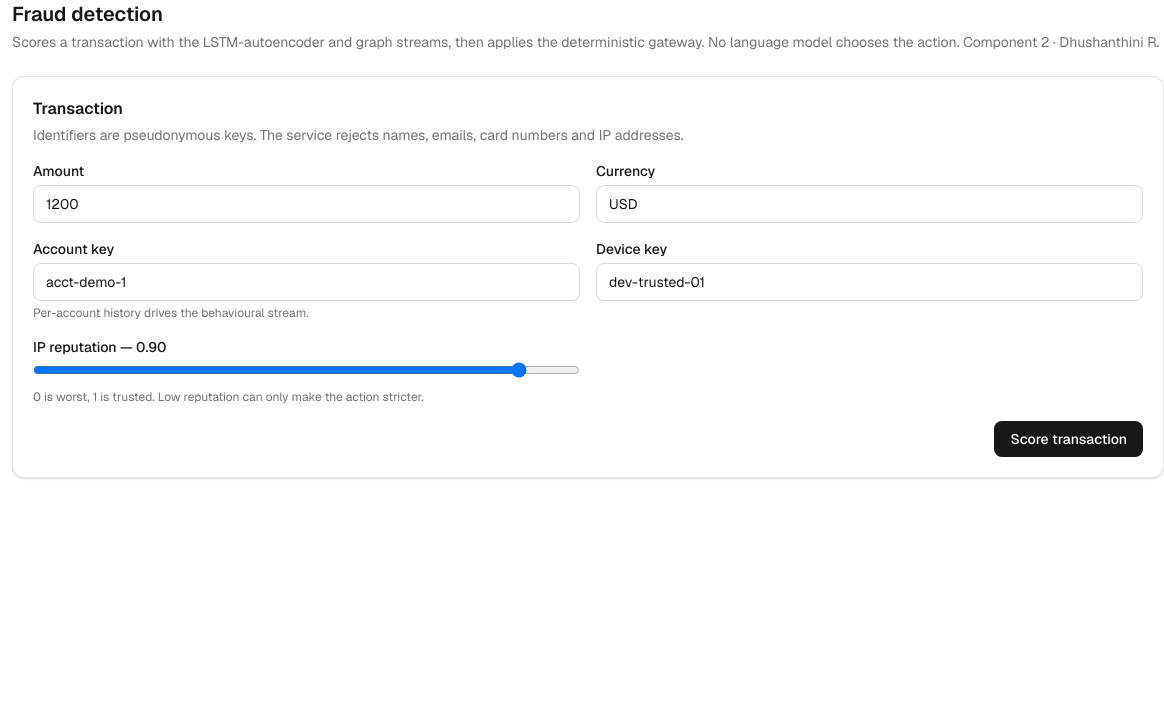
Test: Fraud Page -> FinTrust Assistant Transaction ID Handoff Regression › 1 & 2. Fraud page scores transaction, returns backend ID, renders 'Explain in Assistant' link with ?tx=
# Click score transaction
What coordinates should you click on to do the following:
click the button "Score transaction"
I would click on:
 (1069, 439)
Its box is [994,421,1143,457].
(page scrolled)
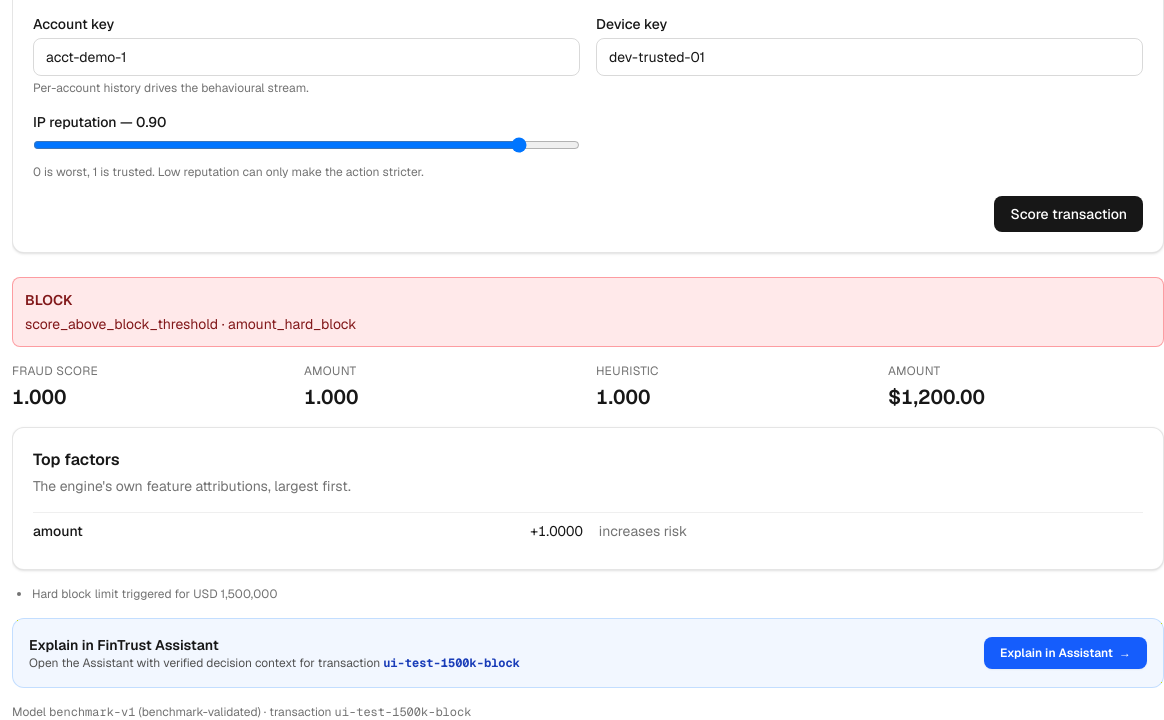
Result: the link with test id "explain-in-assistant-btn" is shown at [984,637,1147,669]
Result: the text "ui-test-1500k-block" below "Explain in FinTrust Assistant" is shown at [383,655,520,671]
